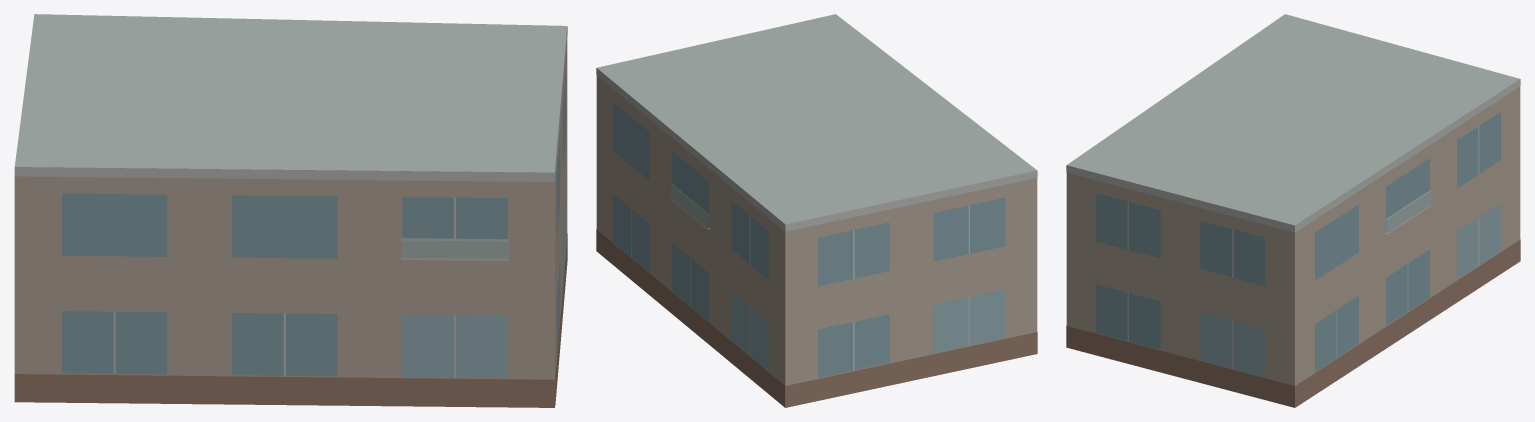
The model's file is survey-upis-32776823.glb.
3 views of the same model, side by side, from view 1: azimuth 30°, elevation 25°; view 2: azimuth 150°, elevation 25°; view 3: azimuth 270°, elevation 25° (orthographic). The views are drawn at different scales.
Visible parts, largest first — view 1: survey-upis-32776823.tmp; view 2: survey-upis-32776823.tmp; view 3: survey-upis-32776823.tmp.
Boxes of the visible parts, bbox=[...] form: survey-upis-32776823.tmp: bbox=[14, 14, 567, 407]; survey-upis-32776823.tmp: bbox=[596, 14, 1037, 407]; survey-upis-32776823.tmp: bbox=[1066, 14, 1520, 407].
Size of the model in its own units: 15.18 by 6.1 by 13.77.
